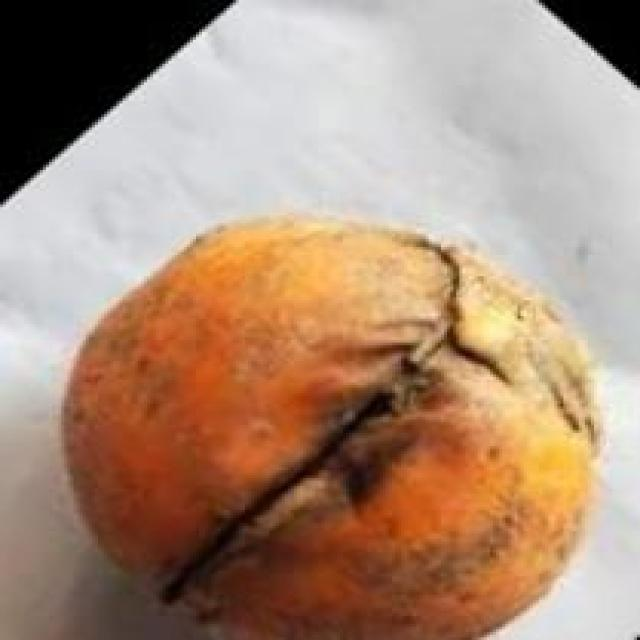damaged: (58, 215, 606, 637)
